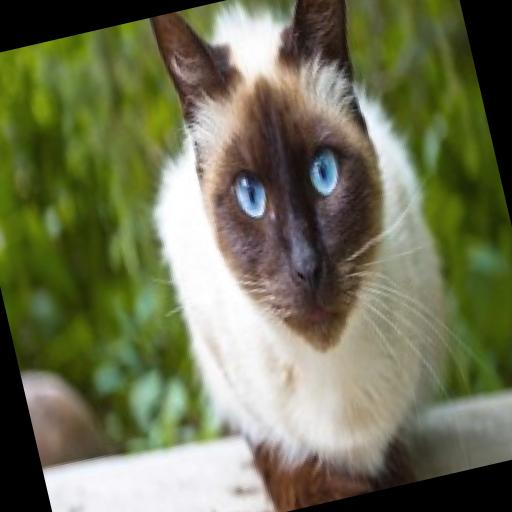cat: (99, 0, 486, 512)
